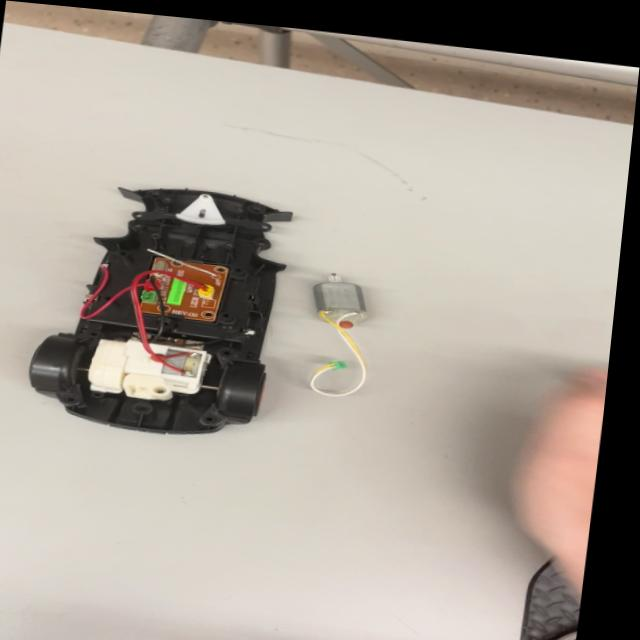Chassis: (13, 171, 301, 448)
motor: (299, 263, 376, 403)
